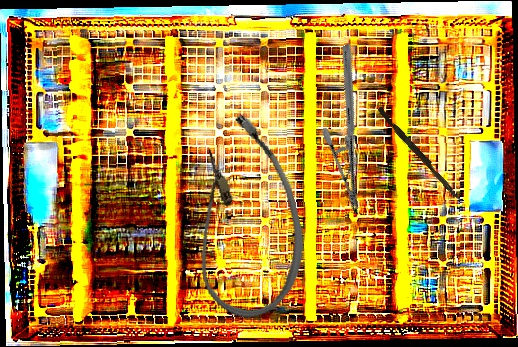Cannula: (167, 107, 320, 327)
Needle Holder: (275, 42, 426, 213)
Pusher: (374, 106, 467, 204)
